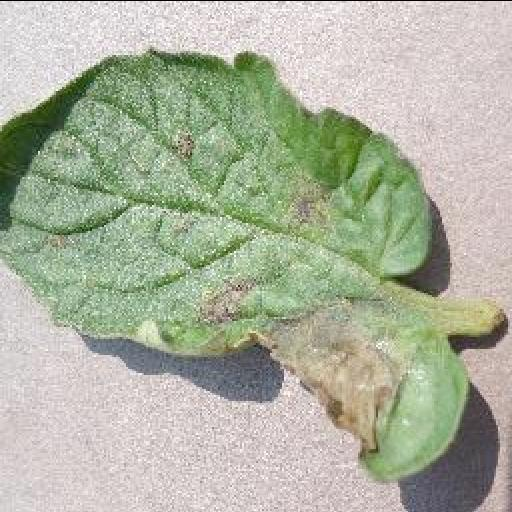disease_tomato: (0, 48, 474, 482)
